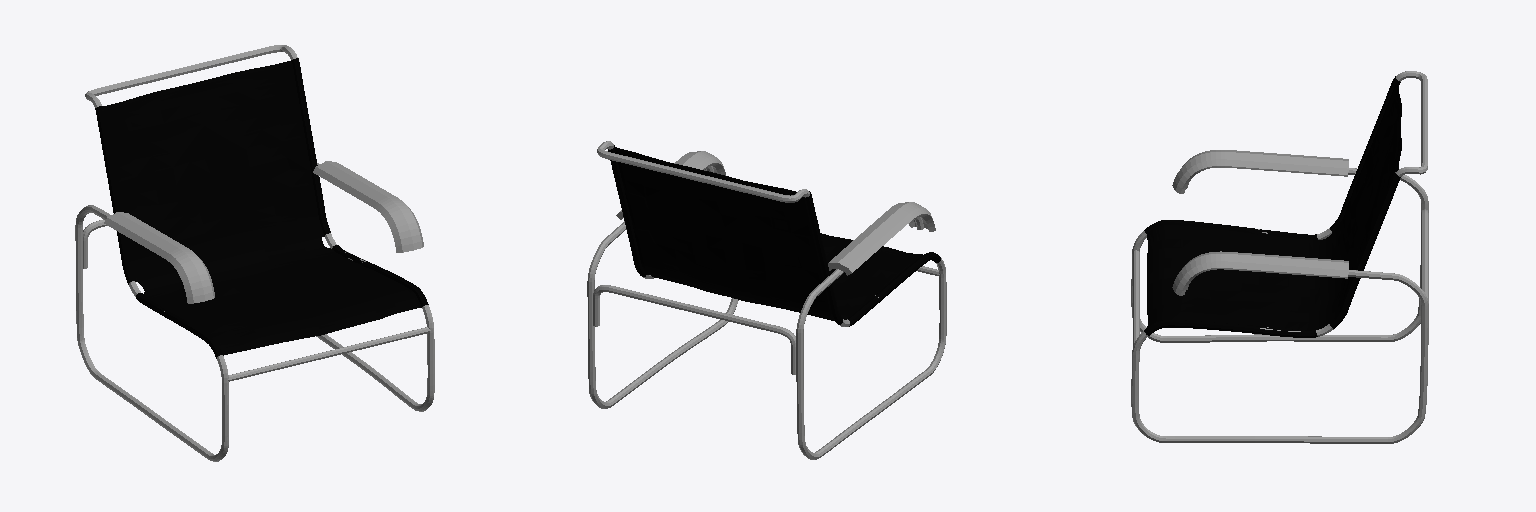
Rendered from armchair.obj.
3 views of the same model, side by side, from view 1: azimuth 30°, elevation 25°; view 2: azimuth 150°, elevation 25°; view 3: azimuth 270°, elevation 25° (orthographic).
Visible parts, largest first — view 1: BezierCurve.003_Mesh.002, BezierCurve_Mesh, BezierCurve.002_Mesh.001; view 2: BezierCurve.003_Mesh.002, BezierCurve_Mesh, BezierCurve.002_Mesh.001; view 3: BezierCurve.003_Mesh.002, BezierCurve_Mesh, BezierCurve.002_Mesh.001.
Part boxes in pixels (bbox=[...]): BezierCurve.003_Mesh.002: bbox=[95, 58, 428, 358]; BezierCurve_Mesh: bbox=[75, 45, 434, 461]; BezierCurve.002_Mesh.001: bbox=[104, 161, 423, 303]; BezierCurve.003_Mesh.002: bbox=[608, 145, 940, 326]; BezierCurve_Mesh: bbox=[587, 141, 946, 459]; BezierCurve.002_Mesh.001: bbox=[616, 151, 935, 275]; BezierCurve.003_Mesh.002: bbox=[1144, 76, 1401, 337]; BezierCurve_Mesh: bbox=[1131, 71, 1428, 443]; BezierCurve.002_Mesh.001: bbox=[1172, 150, 1348, 295].
Size of the model in its own units: 0.7801 by 0.8646 by 0.8493.